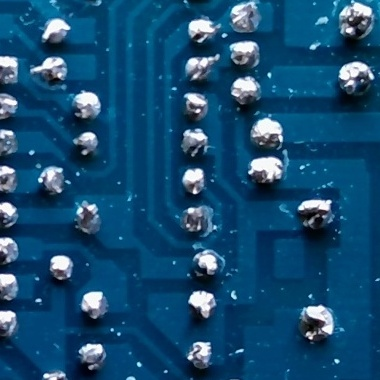?: (299, 197, 336, 234), (189, 16, 219, 49), (77, 343, 108, 373), (195, 246, 225, 274), (0, 49, 21, 85), (0, 200, 21, 232), (0, 310, 19, 336)
drag: (182, 123, 211, 159), (185, 289, 218, 320), (74, 201, 102, 237), (230, 3, 260, 34), (184, 91, 211, 121), (45, 369, 69, 380)
little: (336, 1, 376, 40), (300, 302, 337, 340), (178, 204, 214, 236), (228, 75, 262, 105), (229, 38, 260, 69), (187, 340, 215, 369), (0, 125, 21, 155), (0, 89, 18, 123), (0, 237, 20, 265), (222, 379, 252, 380)
norm: (38, 166, 67, 199), (74, 90, 102, 122), (180, 168, 209, 198), (0, 272, 22, 303), (49, 254, 75, 280)
tip: (31, 56, 71, 85), (249, 115, 284, 148), (248, 156, 285, 184), (186, 53, 218, 84), (41, 14, 70, 46), (80, 290, 108, 322), (70, 131, 98, 156), (0, 164, 18, 195)
